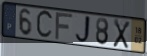6: (19, 8, 34, 38)
8: (95, 17, 110, 46)
C: (35, 9, 55, 41)
F: (54, 12, 74, 41)
J: (74, 14, 92, 45)
X: (112, 18, 131, 51)
